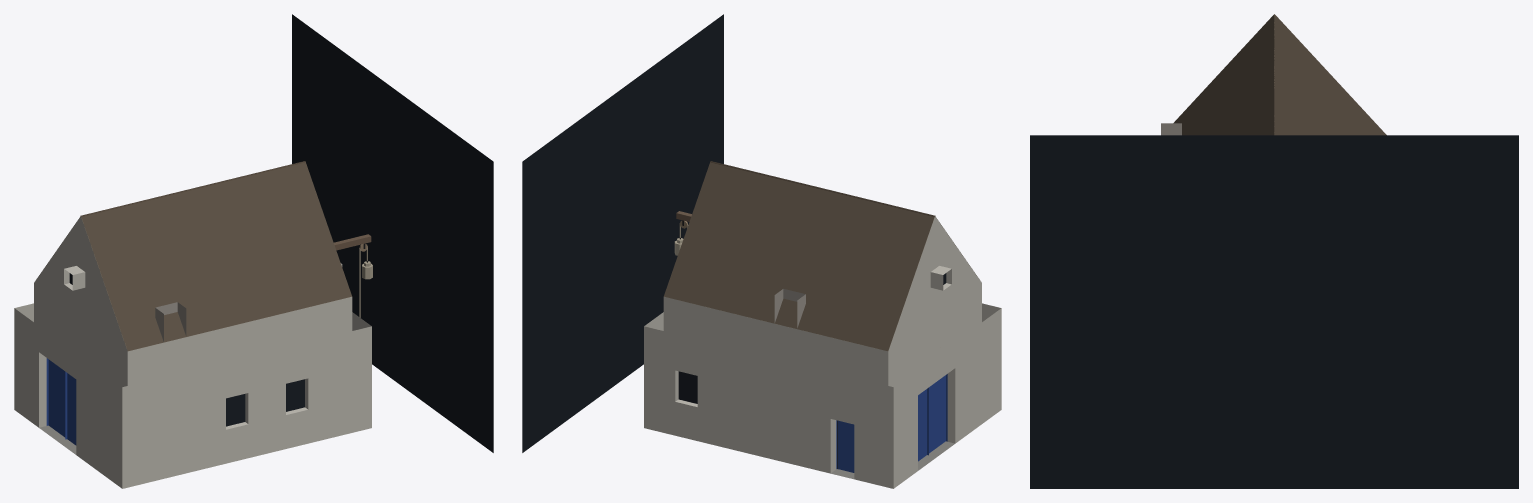
File: schmied_innen.glb
3 views of the same model, side by side, from view 1: azimuth 30°, elevation 25°; view 2: azimuth 150°, elevation 25°; view 3: azimuth 270°, elevation 25° (orthographic). The views are drawn at different scales.
Visible parts, largest first — view 1: Himmel_Lager, Raum_Werk, Decke_Lager, Raum_Lager, Bedienung_Karren_Hoftor, Kranbalken, Schlot2; view 2: Himmel_Lager, Raum_Werk, Decke_Lager, Raum_Lager, Bedienung_Karren_Hoftor, Holztuer; view 3: Himmel_Lager, Decke_Lager.
Boxes of the visible parts, x1,y1,x2,y2 form: Himmel_Lager: [292, 14, 493, 452]; Raum_Werk: [14, 303, 371, 488]; Decke_Lager: [36, 161, 351, 351]; Raum_Lager: [34, 216, 352, 385]; Bedienung_Karren_Hoftor: [46, 358, 76, 445]; Kranbalken: [334, 234, 372, 317]; Schlot2: [155, 302, 186, 341]; Himmel_Lager: [522, 14, 723, 452]; Raum_Werk: [644, 303, 1001, 488]; Decke_Lager: [664, 161, 979, 351]; Raum_Lager: [663, 216, 981, 385]; Bedienung_Karren_Hoftor: [918, 374, 947, 461]; Holztuer: [836, 420, 854, 472]; Himmel_Lager: [1030, 135, 1518, 488]; Decke_Lager: [1173, 14, 1386, 135].
Bounding box in the file's own units: 13 × 11.17 × 14.
